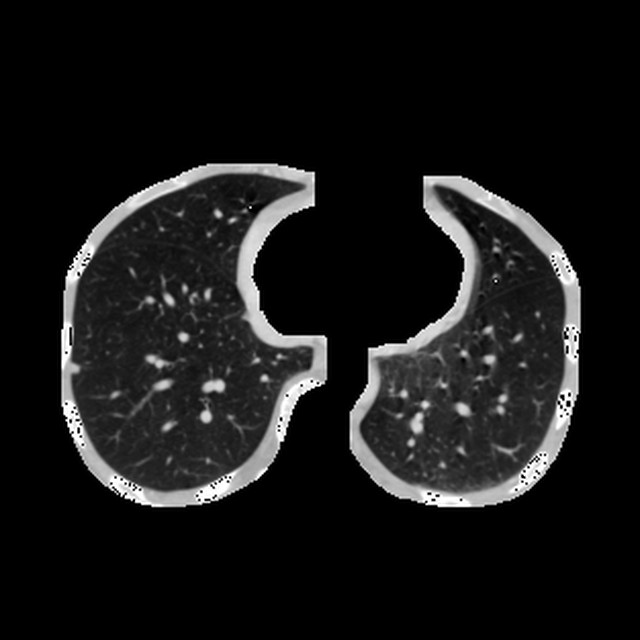PN: (70, 364, 78, 372)
